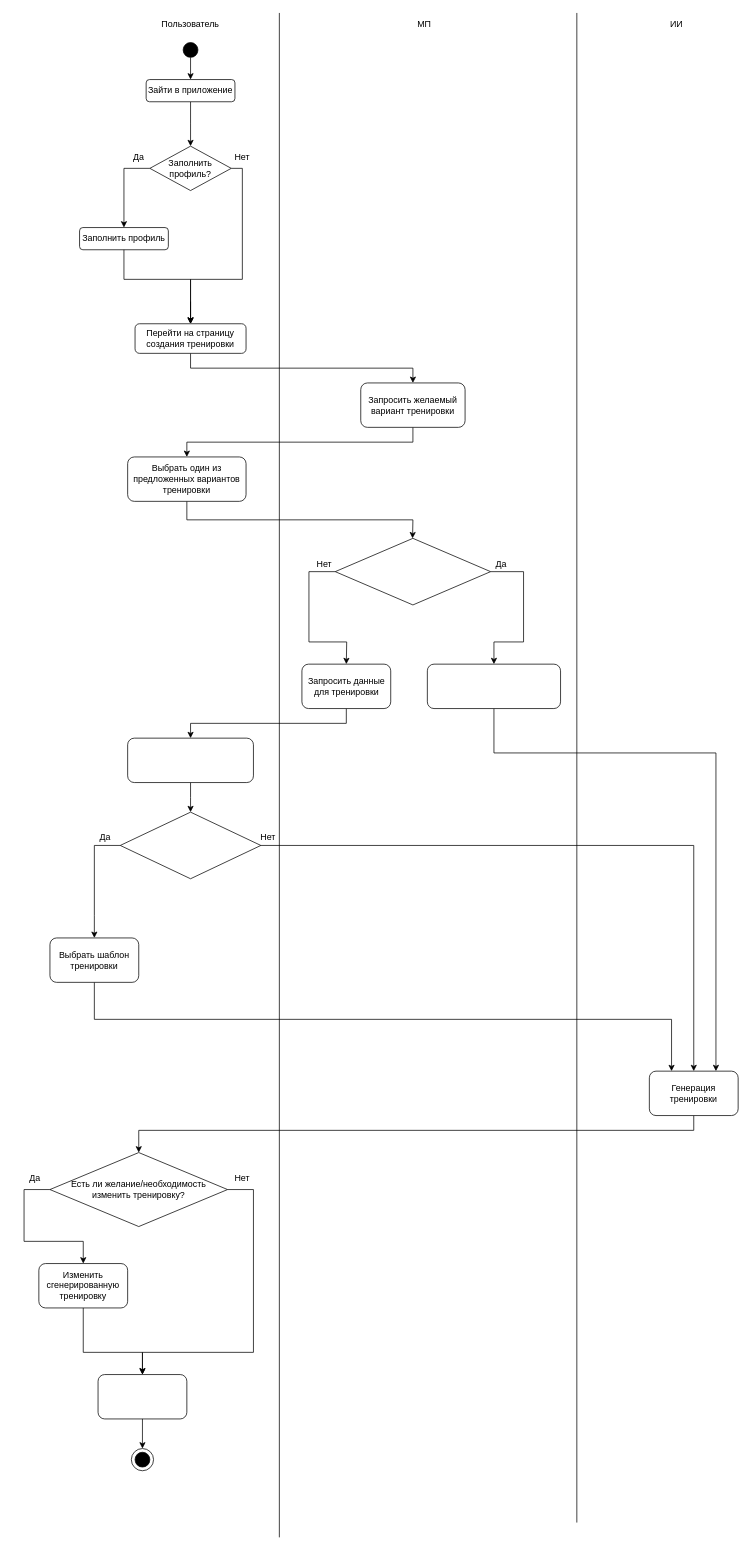
Image size: 751x1551. Some labels were removed from this diagram. The centre of each missing label's shape, as x and y in pixels:
"Ввести запрашиваемые данные (тип, цель, место тренировки)" goes at (190,760).
"Отображается предзаполненная форма настроек тренировки" goes at (494,686).
"Подтвердить тренировку" goes at (142,1396).
"Существует ли шаблон тренировки?" goes at (190,845).
"Существуют ли предыдущие тренировки?" goes at (412,571).
